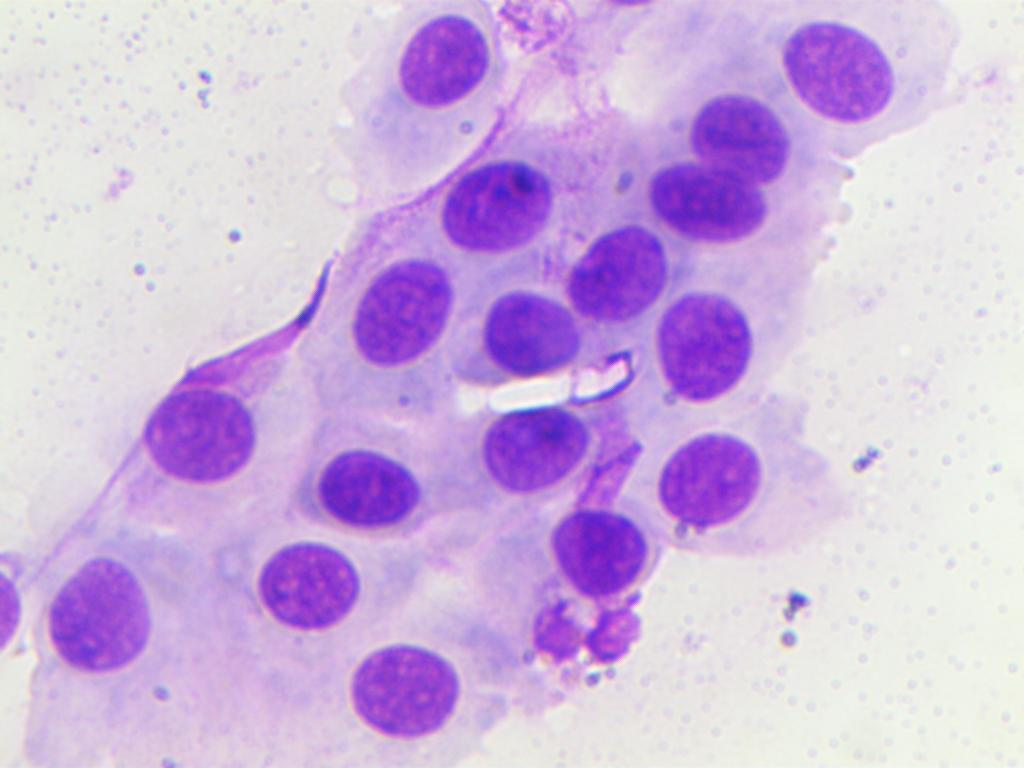epithelial: (25, 553, 167, 703), (342, 626, 490, 751), (336, 249, 458, 397), (671, 72, 812, 200), (373, 0, 509, 126), (637, 289, 775, 409), (126, 377, 263, 497), (233, 538, 392, 641), (468, 390, 608, 503), (779, 21, 901, 147), (645, 146, 784, 252), (565, 212, 678, 340), (424, 150, 561, 254), (543, 508, 670, 613), (642, 418, 764, 527), (312, 446, 441, 546), (468, 293, 579, 387)
neutrophil: (516, 582, 668, 679)
